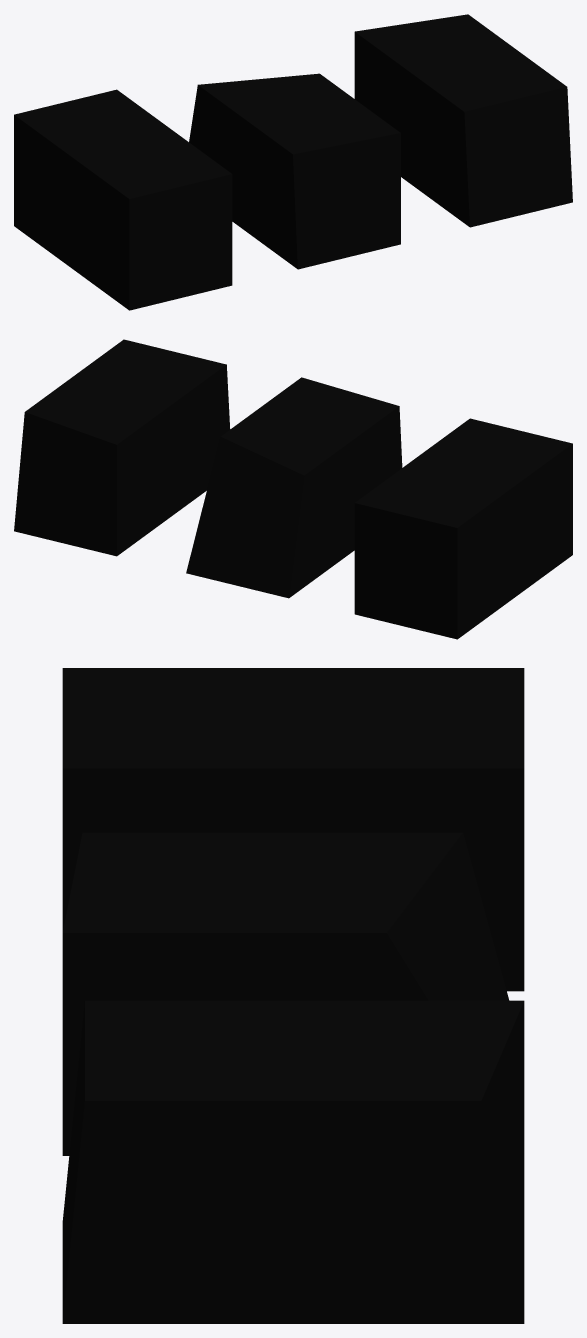
The model's file is Ladrillos.fbx.
3 renders of one model, top to bottom at view 1: azimuth 30°, elevation 25°; view 2: azimuth 150°, elevation 25°; view 3: azimuth 270°, elevation 25°, orthographic. The views are drawn at different scales.
Parts seen in each view (by area): view 1: pCube5, pCube7, pCube6; view 2: pCube5, pCube7, pCube6; view 3: pCube7, pCube5, pCube6.
Part boxes in pixels (left/top/right/bottom): pCube5: left=14, top=89, right=232, bottom=310; pCube7: left=354, top=14, right=572, bottom=227; pCube6: left=189, top=73, right=400, bottom=269; pCube5: left=354, top=418, right=572, bottom=639; pCube7: left=14, top=339, right=230, bottom=556; pCube6: left=186, top=377, right=402, bottom=598; pCube7: left=62, top=1000, right=524, bottom=1323; pCube5: left=62, top=668, right=524, bottom=991; pCube6: left=62, top=832, right=509, bottom=1155.
Bounding box in the file's own units: 0.7189 × 0.1726 × 0.3242.
